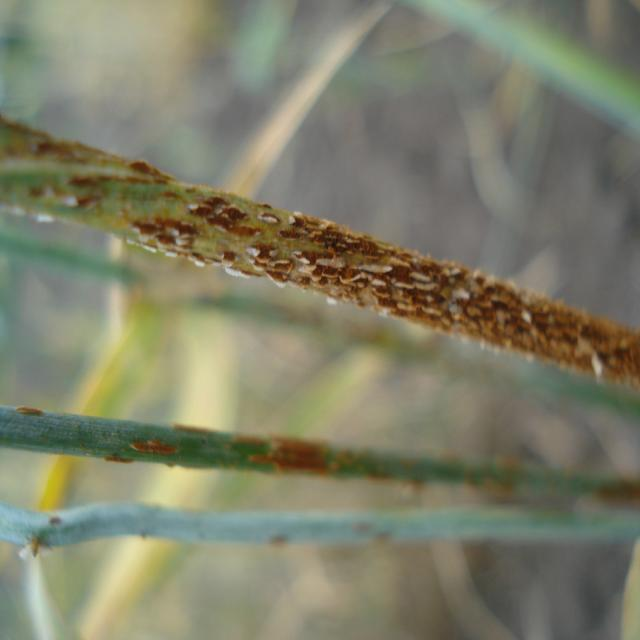Stem_Rust: (0, 112, 639, 401), (0, 405, 639, 507)
